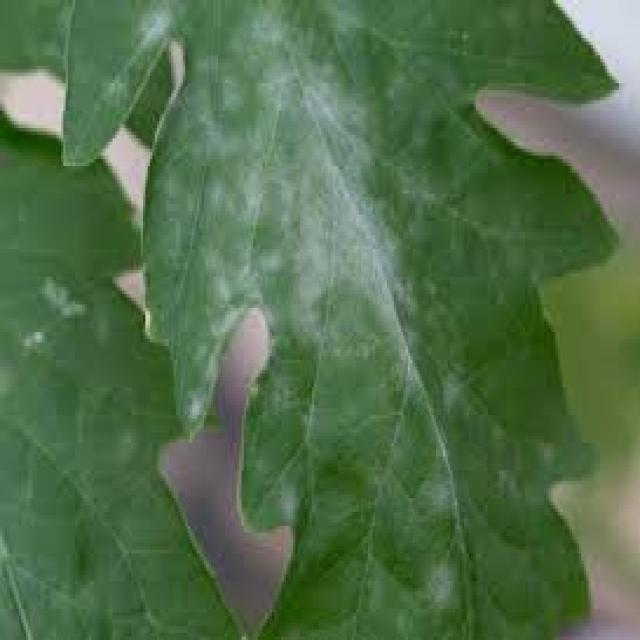powdery_mildew: (18, 13, 574, 599)
